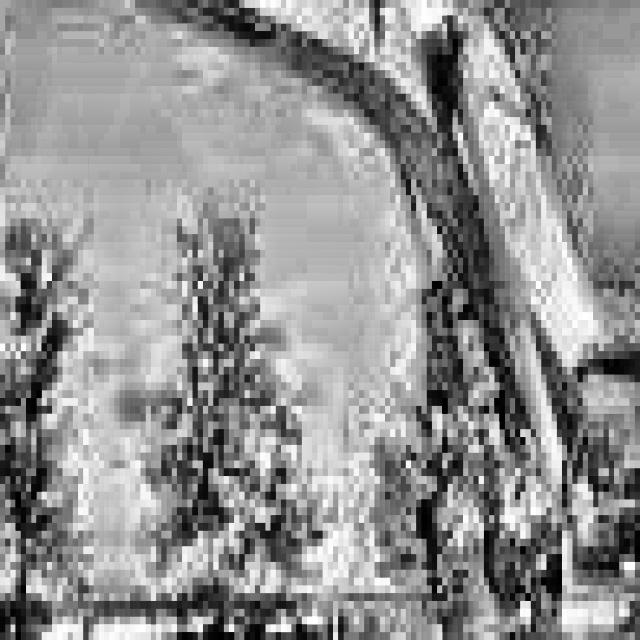excavator: (250, 289, 640, 640)
